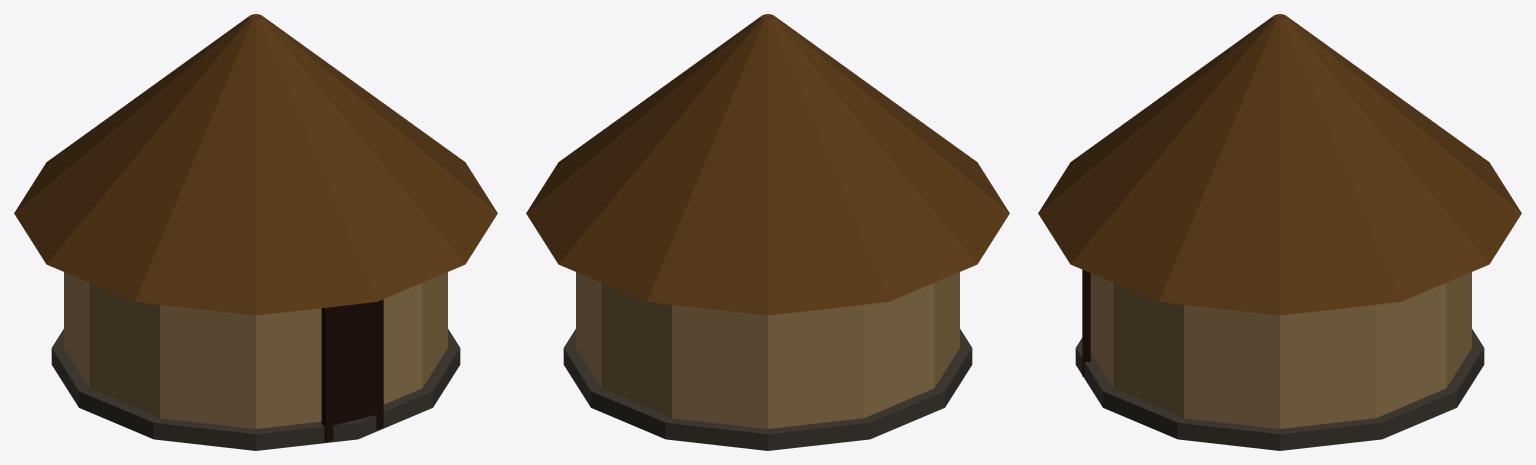
The model's file is hut_round.fbx.
The picture shows the model from 3 angles, left to right: view 1: azimuth 30°, elevation 25°; view 2: azimuth 150°, elevation 25°; view 3: azimuth 270°, elevation 25°; orthographic projection.
Visible parts, largest first — view 1: hut_round; view 2: hut_round; view 3: hut_round.
Boxes of the visible parts, x1,y1,x2,y2 form: hut_round: (14, 14, 497, 450); hut_round: (526, 14, 1009, 450); hut_round: (1038, 14, 1521, 450).
Bounding box in the file's own units: 5.8 × 4.6 × 5.8.
